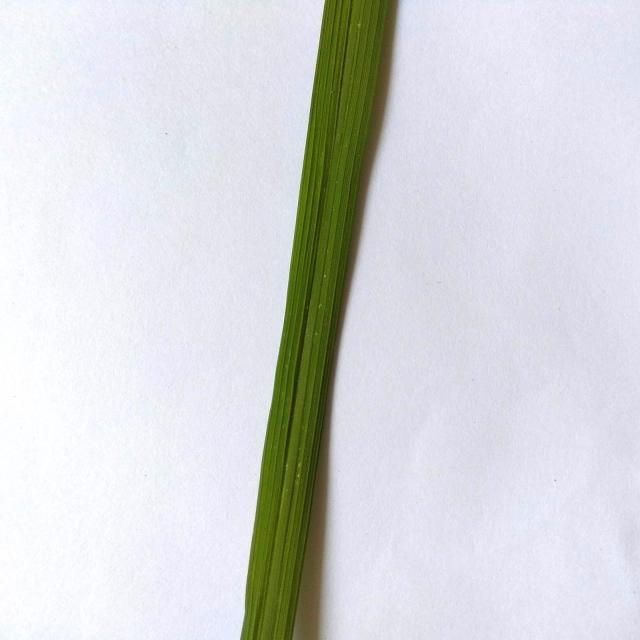healthy: (228, 0, 398, 640)
